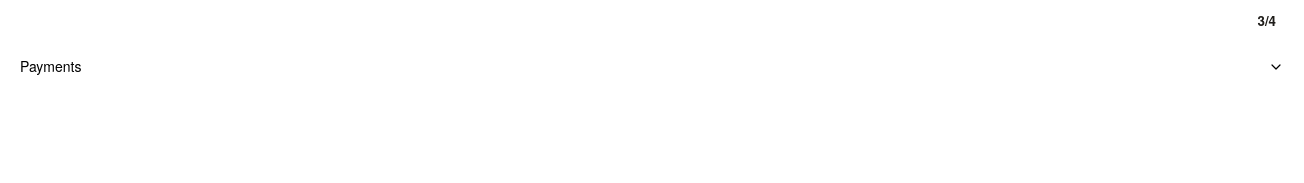
SidebarMenu › collapses and expands nested sections when clicked
Click the button "Payments".
click(51, 66)  # box x1=12 y1=48 x2=1292 y2=86
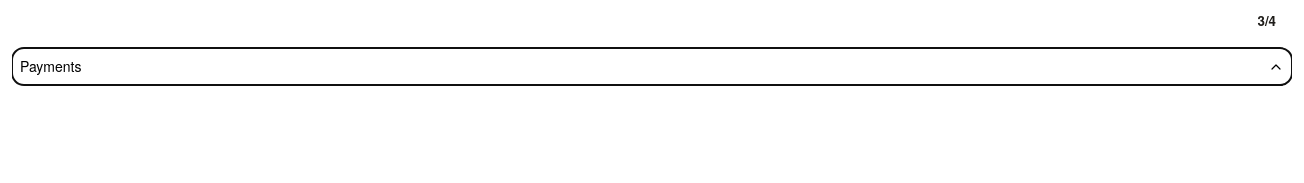
Now the button "Payments" is expanded
Click the button "Payments".
click(51, 66)  # box x1=12 y1=48 x2=1292 y2=86
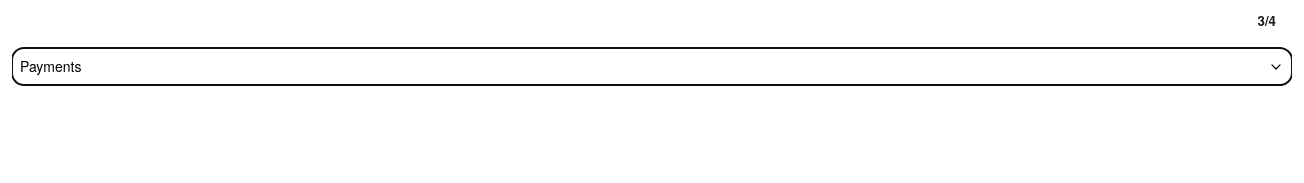
Now the button "Payments" is collapsed, box x1=12 y1=48 x2=1292 y2=86
